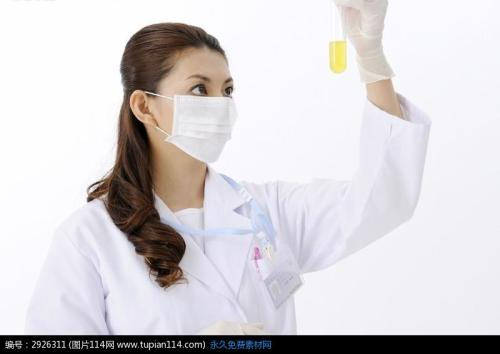correctlyWear: (130, 59, 241, 165)
